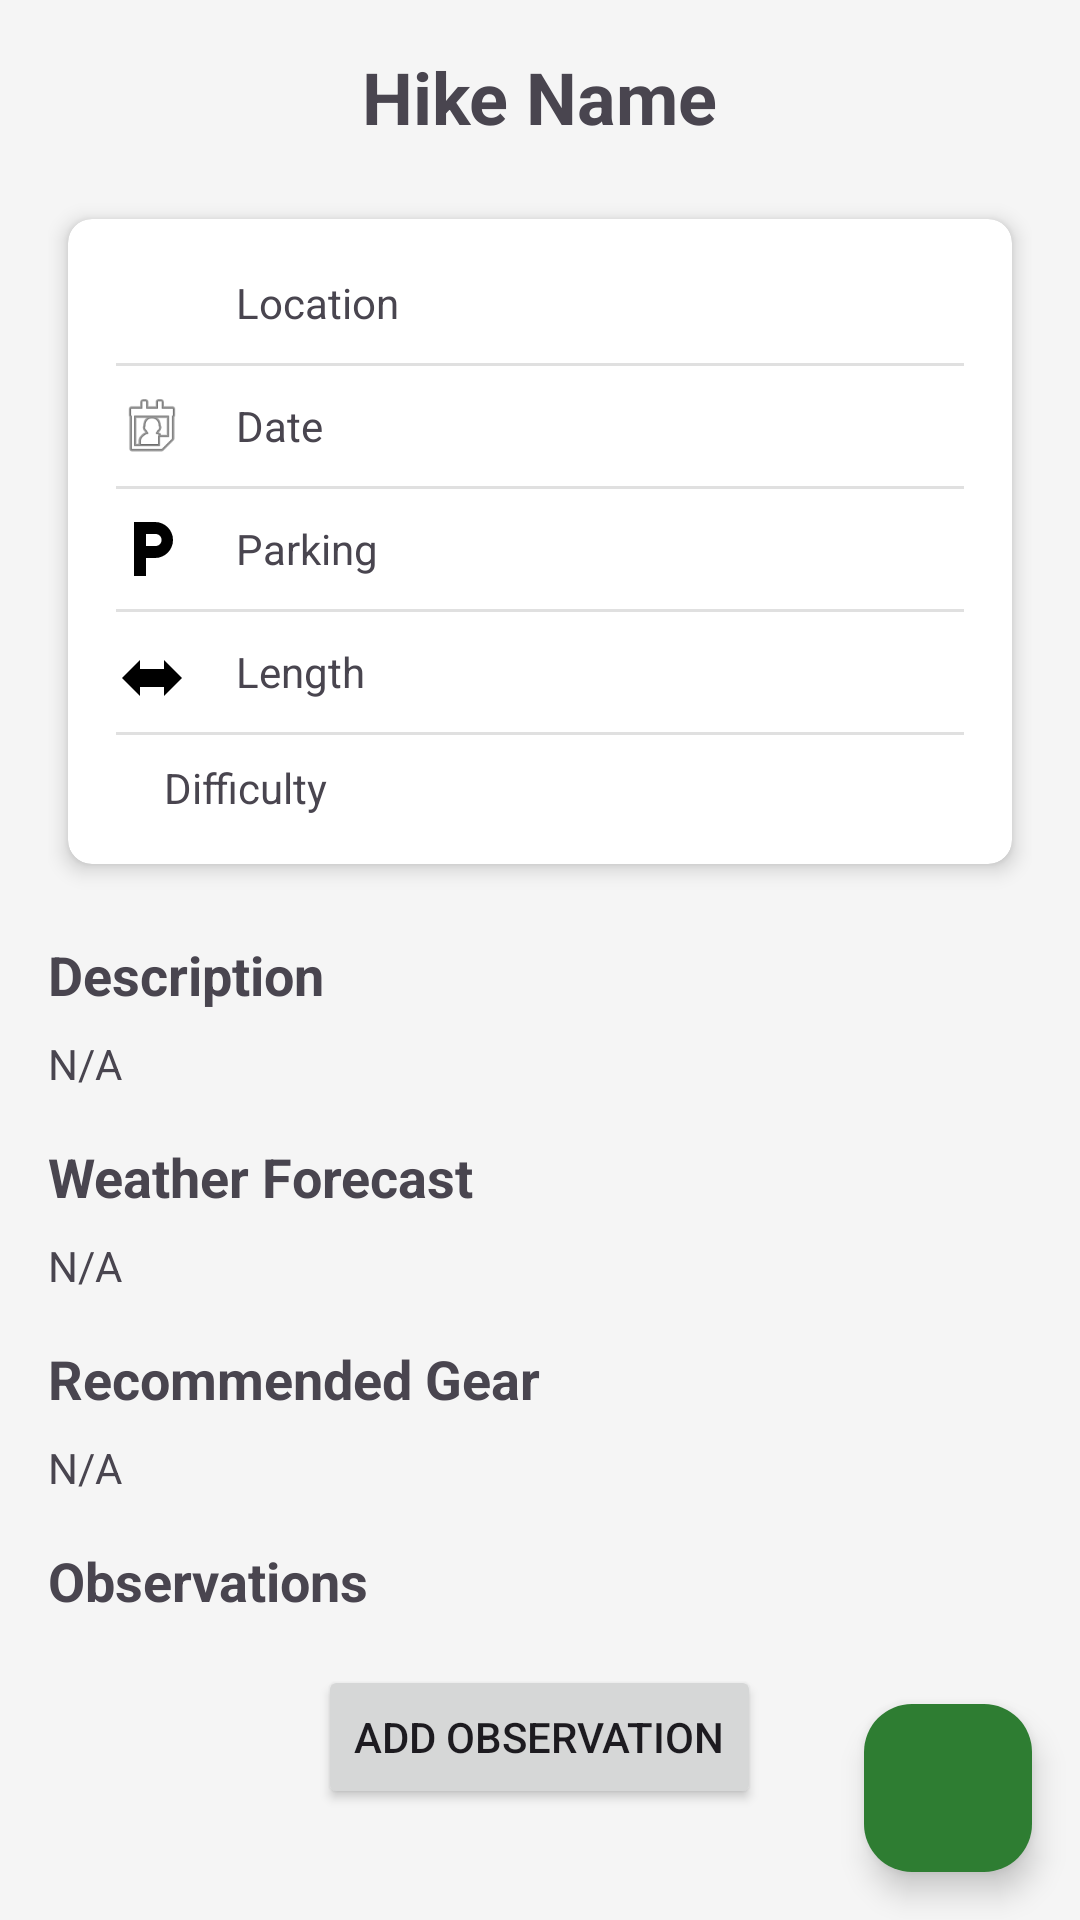

Where to tap for icons on this 1080px×1920px app screen, as [x,y]:
calendar: [152,425]
